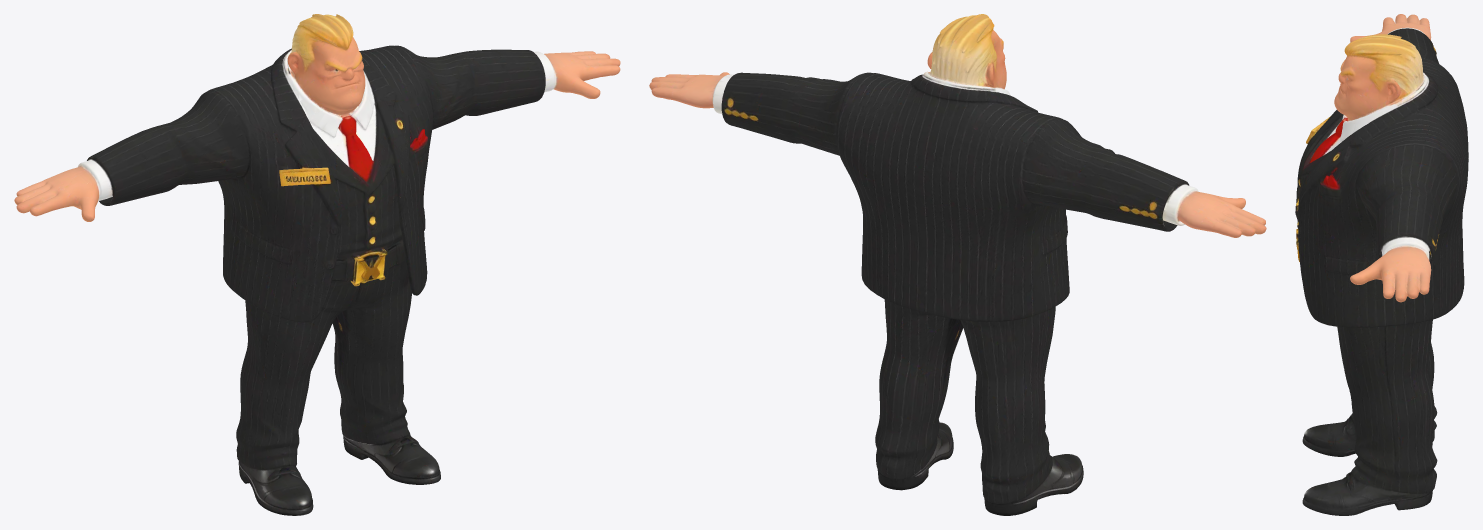
Rendered from manager_boss.glb.
3 renders of one model, left to right at view 1: azimuth 30°, elevation 25°; view 2: azimuth 150°, elevation 25°; view 3: azimuth 270°, elevation 25°, orthographic. The views are drawn at different scales.
Size of the model in its own units: 1.9 by 1.37 by 0.4897.
1 material, 1 textured.
